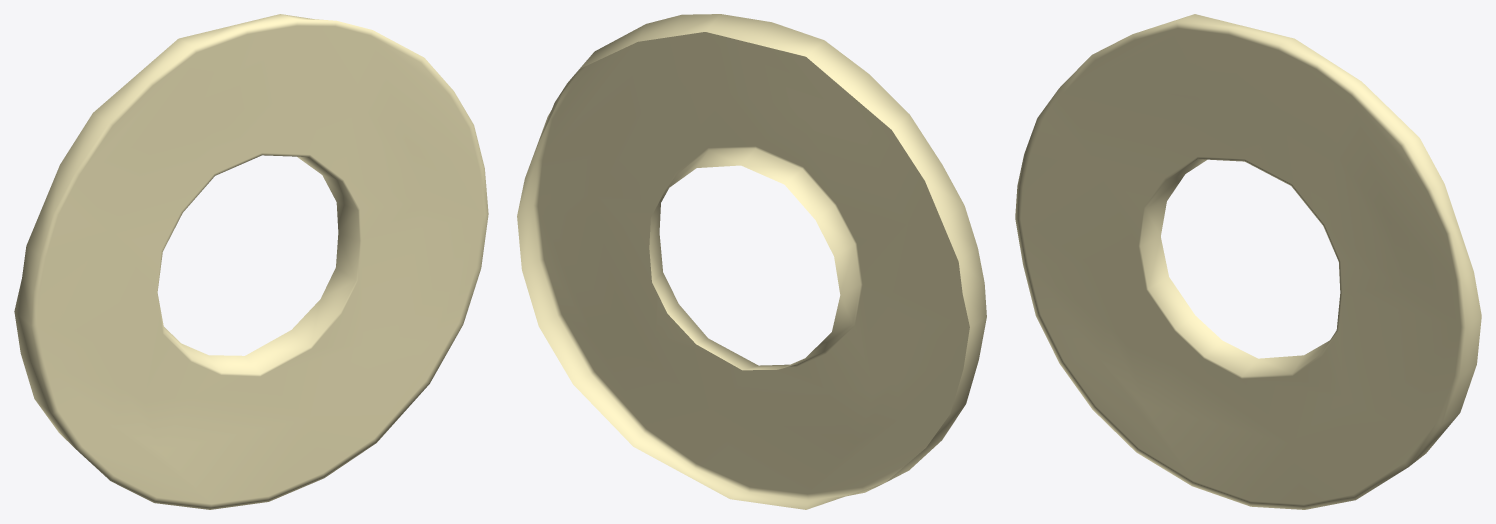
Rendered from ui_radialMenu_1x1.glb.
The picture shows the model from 3 angles, left to right: view 1: azimuth 30°, elevation 25°; view 2: azimuth 150°, elevation 25°; view 3: azimuth 330°, elevation 25°; orthographic projection.
Parts seen in each view (by area): view 1: main; view 2: main; view 3: main.
Boxes of the visible parts, left/top/right/bottom form: main: left=14, top=14, right=488, bottom=509; main: left=517, top=14, right=986, bottom=509; main: left=1015, top=14, right=1481, bottom=509.
Bounding box in the file's own units: 1.99 × 1.99 × 0.1365.
